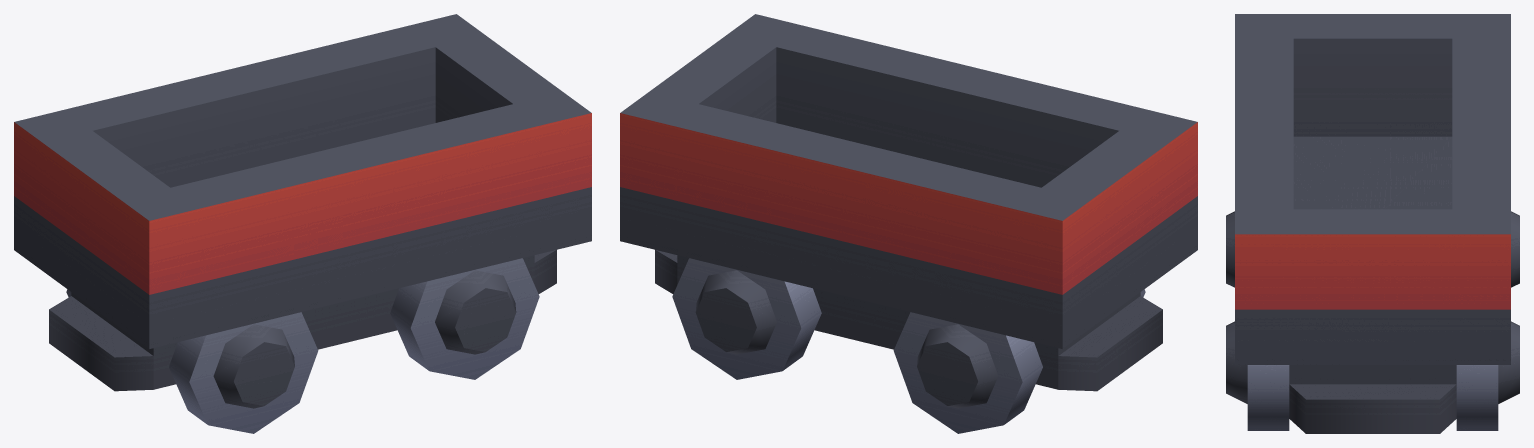
The model's file is train-tender.glb.
The picture shows the model from 3 angles, left to right: view 1: azimuth 30°, elevation 25°; view 2: azimuth 150°, elevation 25°; view 3: azimuth 270°, elevation 25°; orthographic projection. The views are drawn at different scales.
Parts seen in each view (by area): view 1: train-tender; view 2: train-tender; view 3: train-tender.
Boxes of the visible parts, box(x1,y1,x2,y2) form: train-tender: box(14, 14, 591, 433); train-tender: box(620, 14, 1197, 433); train-tender: box(1226, 14, 1519, 433).
Size of the model in its own units: 1.04 by 0.5477 by 0.5848.
1 material, 1 textured.
